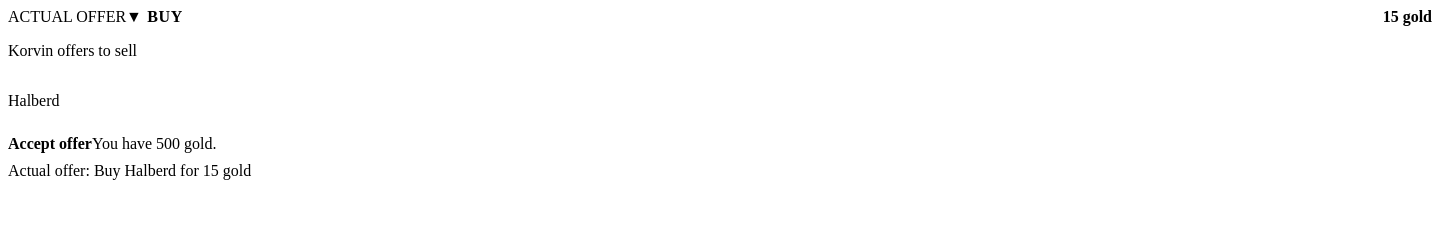
Test: TradeRegion › a stale or refused acceptance shows its safe reason inline as an alert, leaves the card in place and lets the player try again
Click the button "Accept offer": (50, 144) [8,126,92,162]
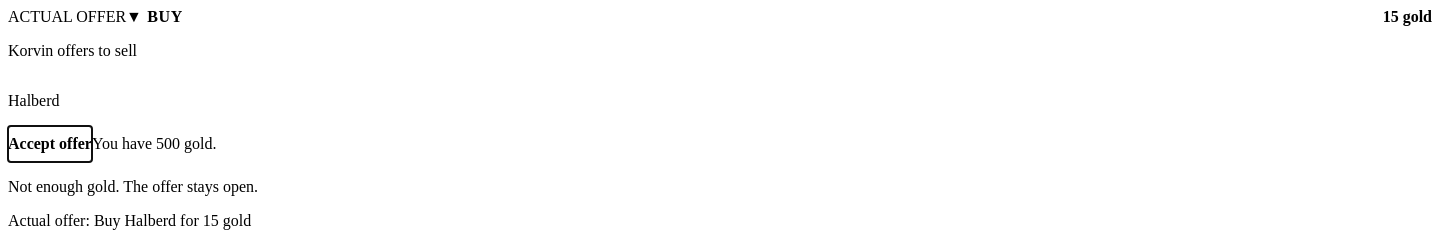
Check: the message "Not enough gold. The offer stays open." is shown, box [8,178,258,195]
